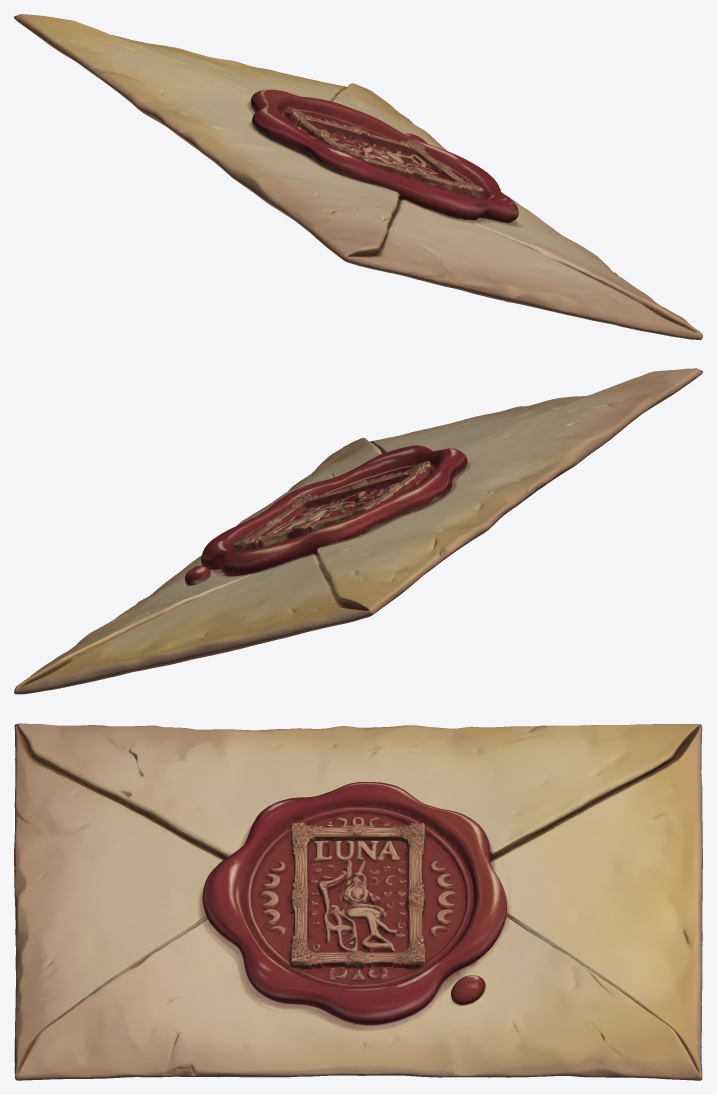
Rendered from e58fb72d-1e89-4dd0-bf89-991bf68fbb69 (1).glb.
3 renders of one model, top to bottom at view 1: azimuth 30°, elevation 25°; view 2: azimuth 150°, elevation 25°; view 3: azimuth 270°, elevation 25°, orthographic. The views are drawn at different scales.
Visible parts, largest first — view 1: tripo_node_932c7e38-22ab-4de7-a55f-069f327d0197; view 2: tripo_node_932c7e38-22ab-4de7-a55f-069f327d0197; view 3: tripo_node_932c7e38-22ab-4de7-a55f-069f327d0197.
Boxes of the visible parts, x1,y1,x2,y2 form: tripo_node_932c7e38-22ab-4de7-a55f-069f327d0197: [14, 14, 702, 339]; tripo_node_932c7e38-22ab-4de7-a55f-069f327d0197: [14, 368, 702, 694]; tripo_node_932c7e38-22ab-4de7-a55f-069f327d0197: [14, 723, 702, 1080].
Size of the model in its own units: 0.6255 by 0.2865 by 1.
Materials: 1 (1 with a texture image).
